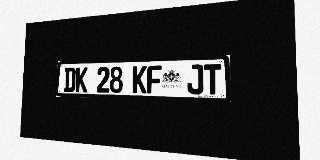2: (97, 67, 110, 93)
8: (110, 66, 123, 93)
D: (64, 67, 76, 92)
F: (147, 65, 162, 94)
J: (187, 64, 203, 94)
K: (132, 66, 147, 93), (75, 67, 88, 92)
T: (204, 64, 221, 95)
